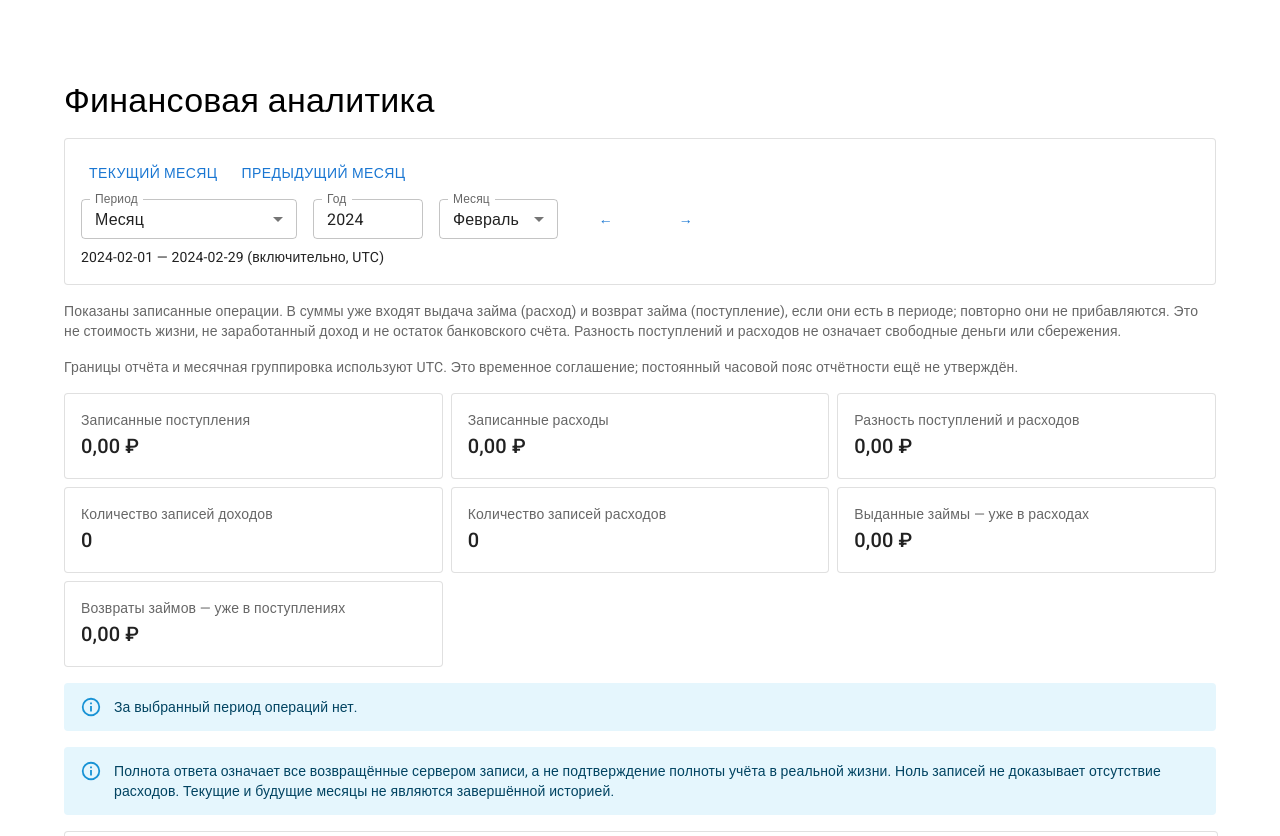
read-only AnalyticsPage with mocked RTK Query transport › handles calendar domain boundaries for year without an arbitrary 2020 minimum
The width and height of the screenshot is (1280, 836).
Check: the text "Записанные поступления" is shown, box x1=81 y1=412 x2=250 y2=428
Select "Январь" in the dropdown labelled "Месяц" at x=498, y=220, box x1=439 y1=200 x2=558 y2=240
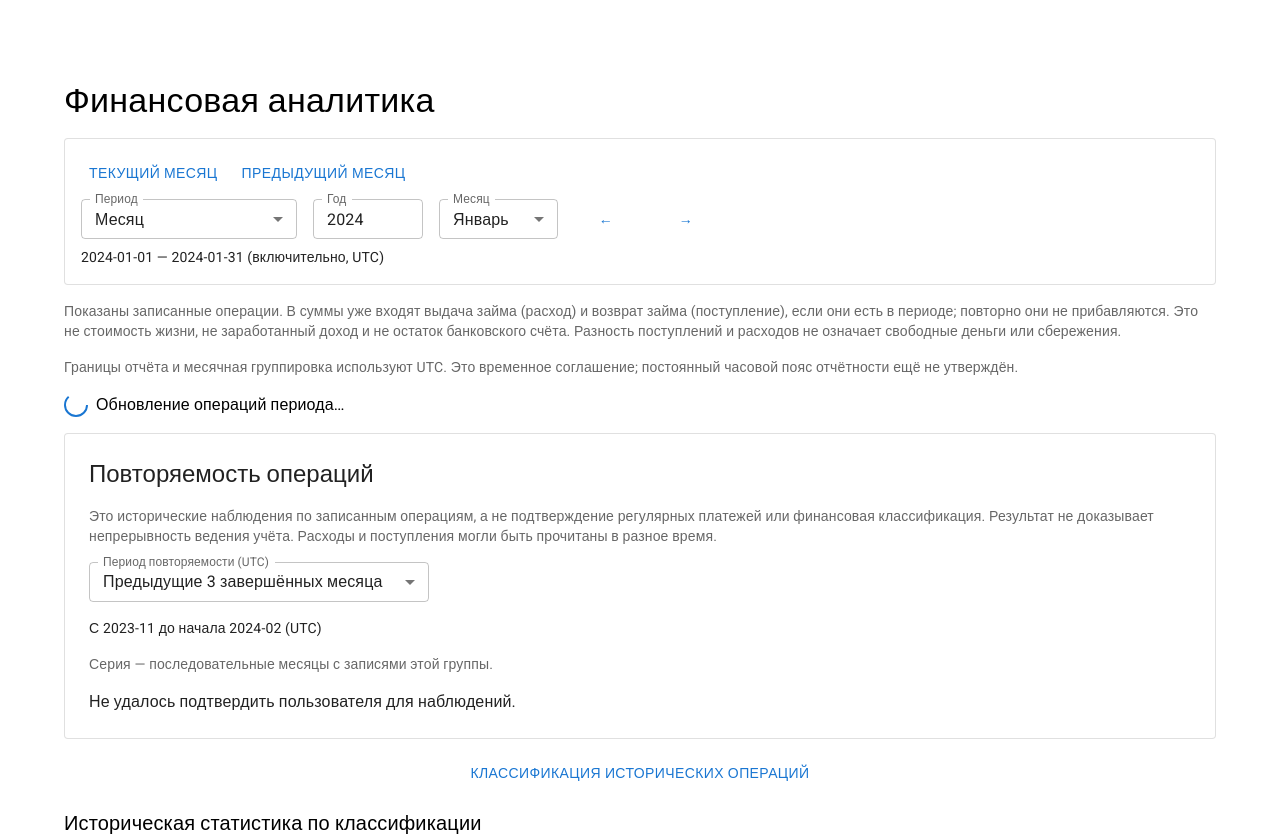
Select "Год" in the dropdown labelled "Период" at x=189, y=220, box x1=81 y1=200 x2=297 y2=240
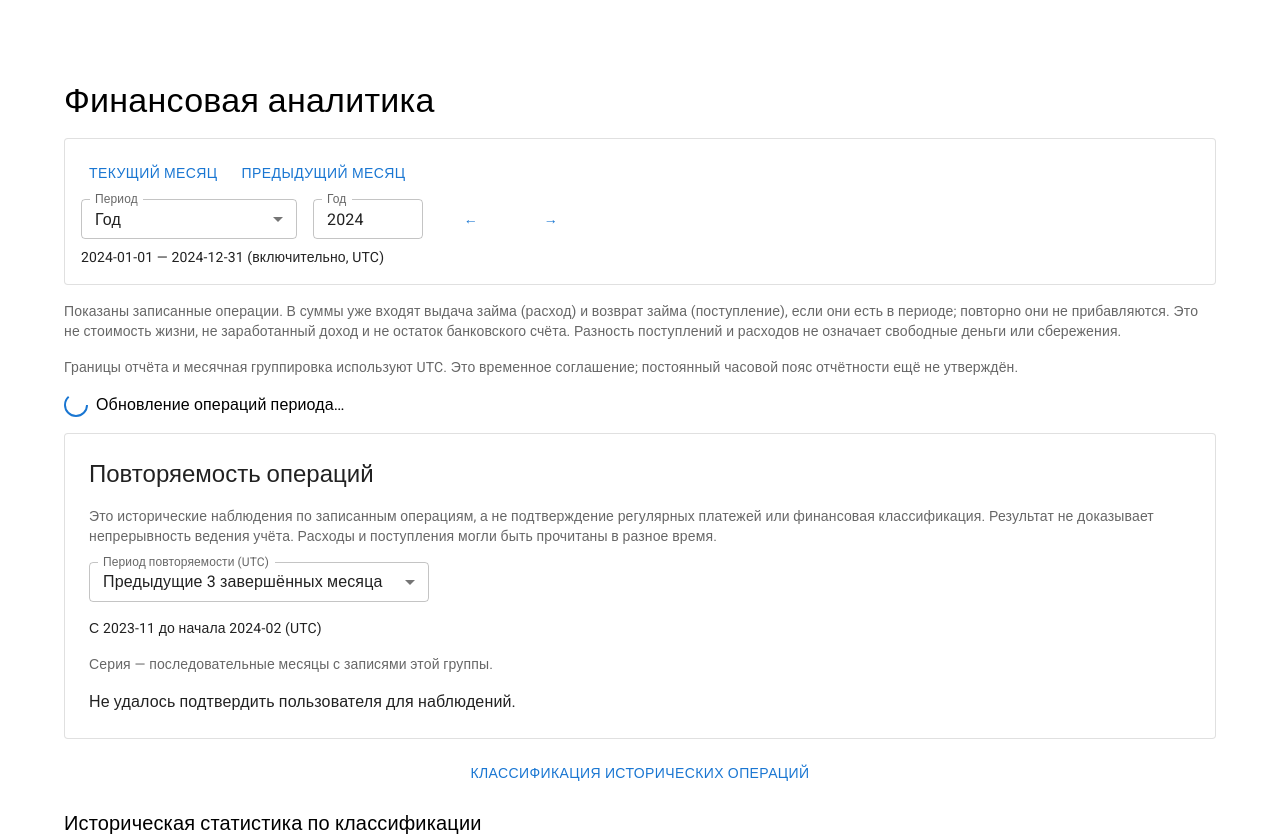
Replace the text in the number field labelled "Год" with "1" at x=368, y=220, box x1=313 y1=200 x2=423 y2=240
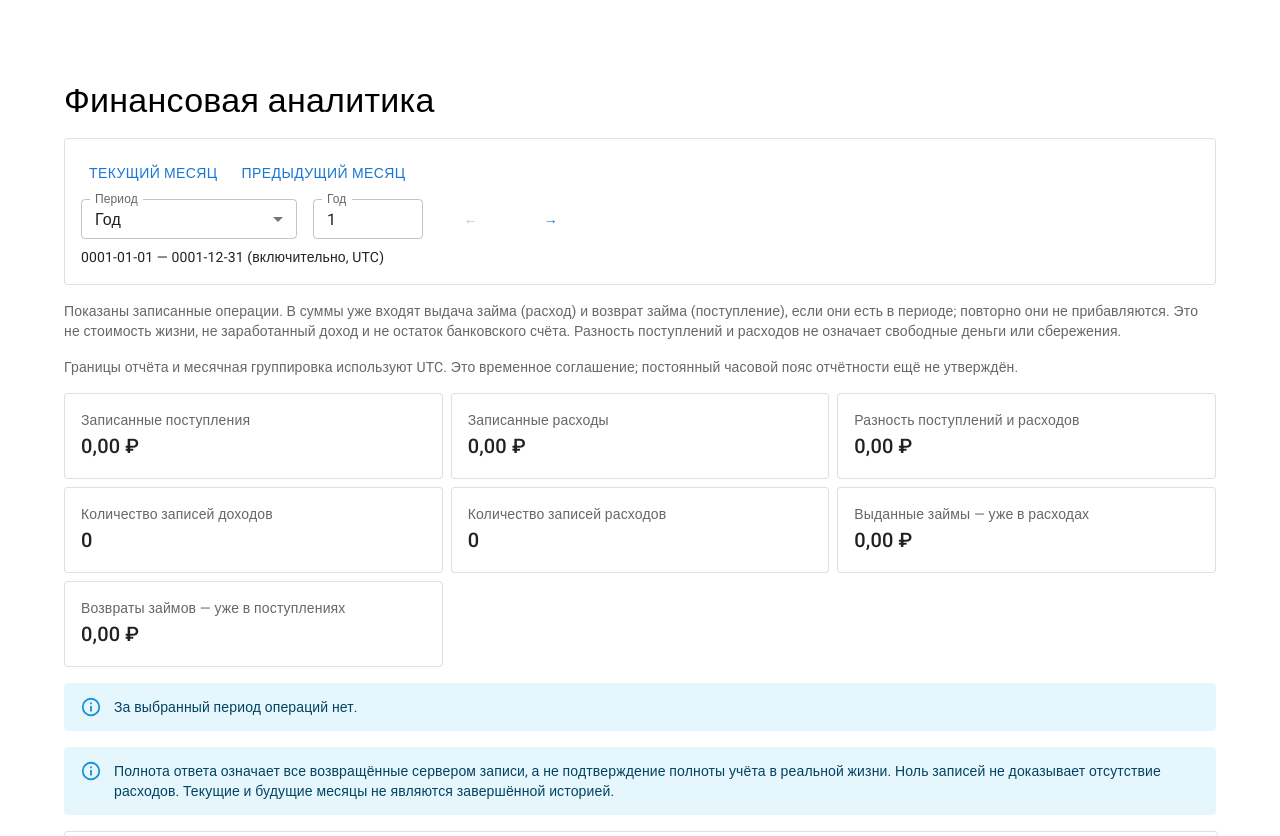
Check: the button named "Предыдущий календарный период" is disabled, box x1=439 y1=200 x2=503 y2=240
Check: the text "Записанные поступления" is shown, box x1=81 y1=412 x2=250 y2=428
Check: the text "0001-01-01 — 0001-12-31 (включительно, UTC)" is shown, box x1=81 y1=250 x2=384 y2=266
Replace the text in the number field labelled "Год" with "9999" at x=368, y=220, box x1=313 y1=200 x2=423 y2=240
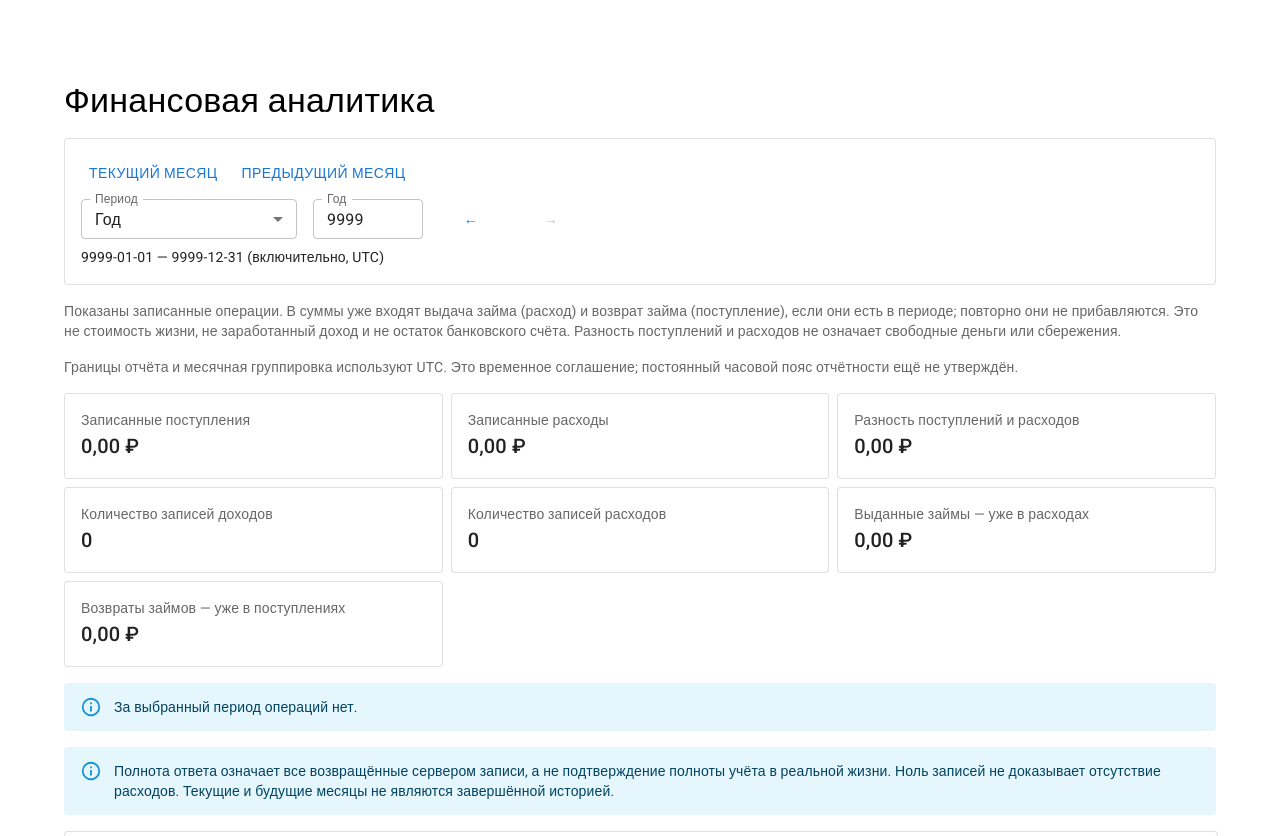
Check: the button named "Следующий календарный период" is disabled, box x1=519 y1=200 x2=583 y2=240
Check: the text "Записанные поступления" is shown, box x1=81 y1=412 x2=250 y2=428
Check: the text "9999-01-01 — 9999-12-31 (включительно, UTC)" is shown, box x1=81 y1=250 x2=384 y2=266
Replace the text in the number field labelled "Год" with "10000" at x=368, y=220, box x1=313 y1=200 x2=423 y2=240
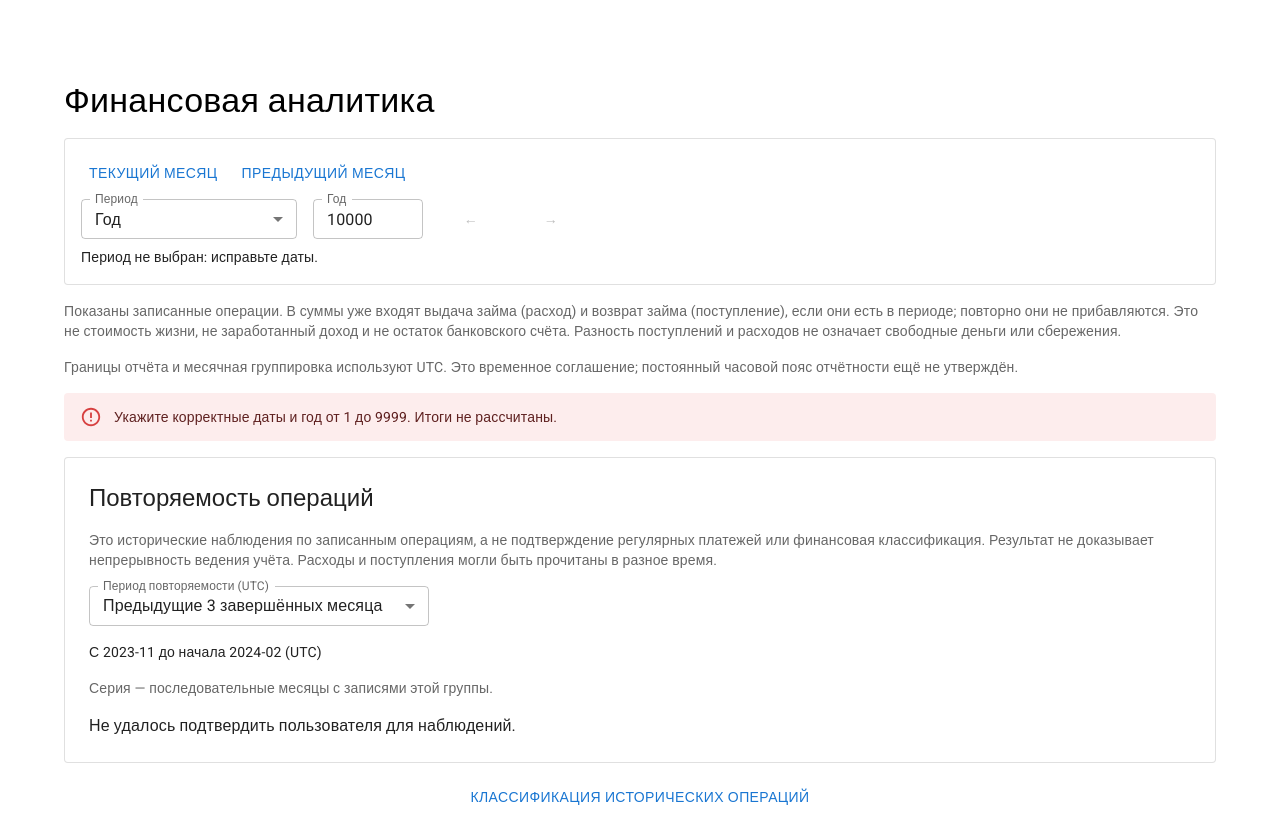
Check: the message shows "год от 1 до 9999", box x1=114 y1=408 x2=411 y2=424
Check: the text "Записанные расходы" is gone
